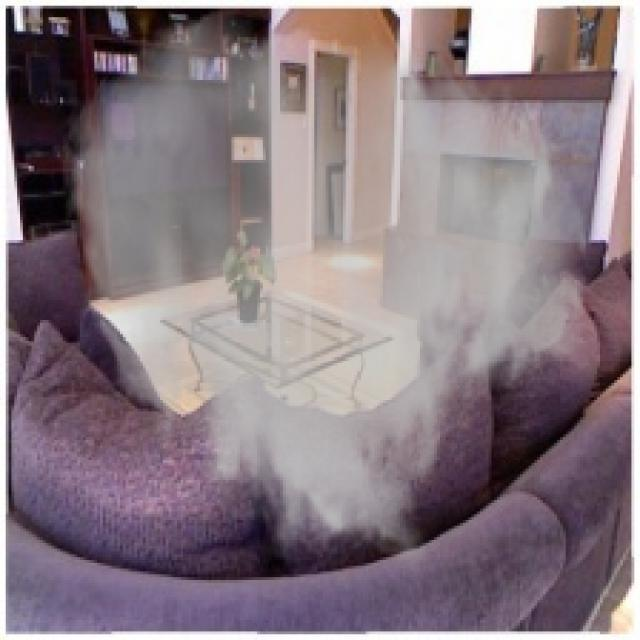Smoke: (57, 6, 594, 574)
